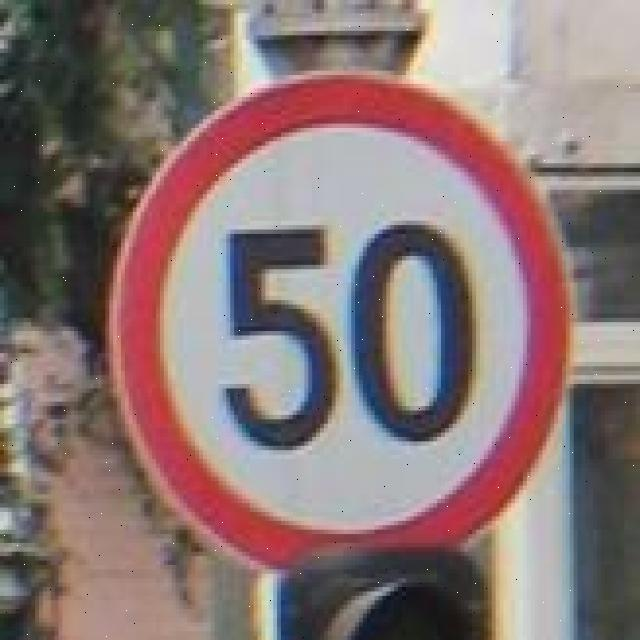speed limit 50: (106, 74, 569, 575)
